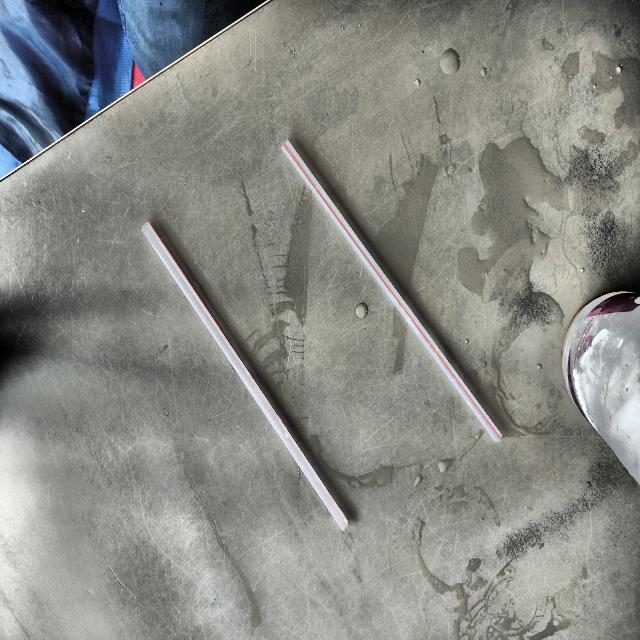plastic straw: (281, 140, 501, 442), (141, 223, 348, 530)
